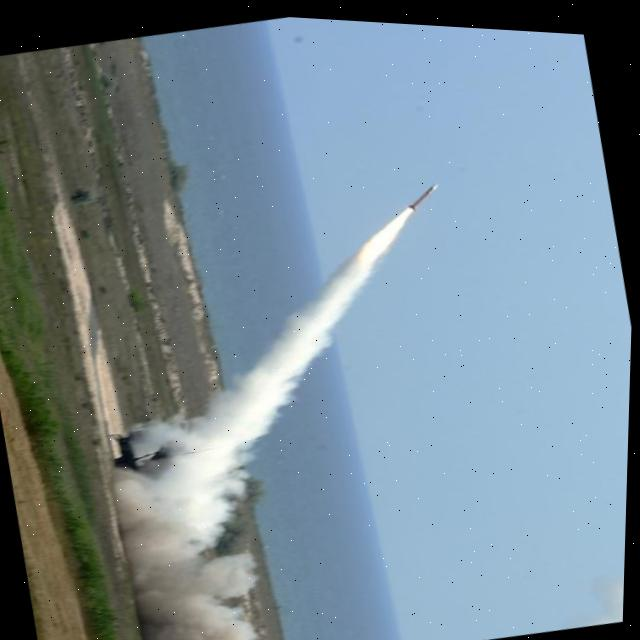missile: (371, 164, 452, 243)
